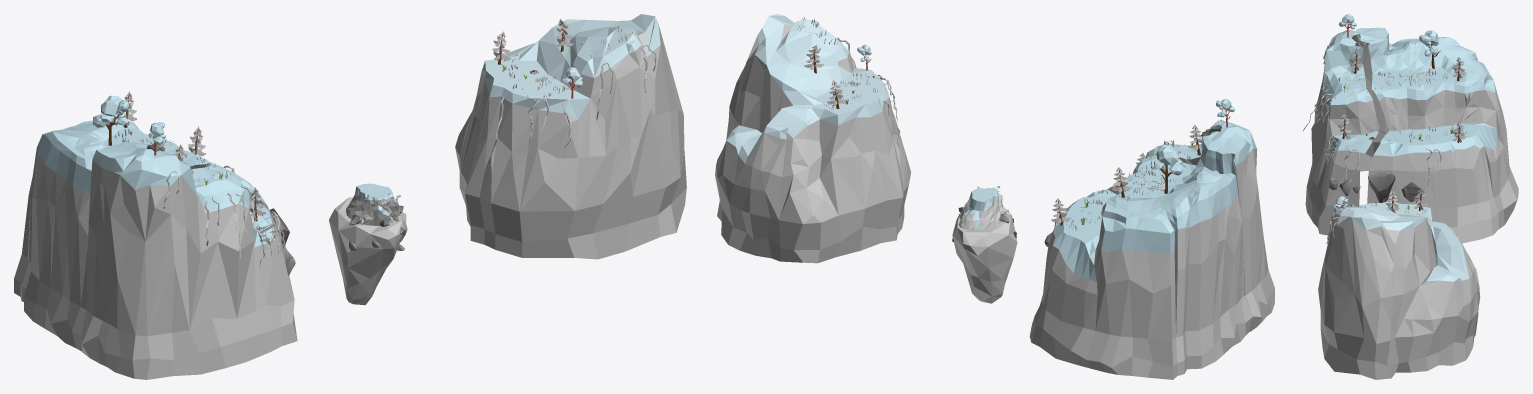
File: rocks.fbx
3 renders of one model, left to right at view 1: azimuth 30°, elevation 25°; view 2: azimuth 150°, elevation 25°; view 3: azimuth 270°, elevation 25°, orthographic. The views are drawn at different scales.
Parts seen in each view (by area): view 1: Campfire.001, Campfire.002, 528-_PP_Ramp_Moss_Gro.002; view 2: Campfire.001, Campfire.002, 528-_PP_Ramp_Moss_Gro.002; view 3: Campfire.001, Campfire.002.
Part boxes in pixels (x1,y1,x2,y2): Campfire.001: (14, 91, 297, 379); Campfire.002: (455, 14, 686, 259); 528-_PP_Ramp_Moss_Gro.002: (329, 183, 407, 305); Campfire.001: (1029, 99, 1274, 379); Campfire.002: (715, 14, 911, 263); 528-_PP_Ramp_Moss_Gro.002: (952, 186, 1017, 303); Campfire.001: (1303, 14, 1518, 243); Campfire.002: (1318, 188, 1480, 379).
Size of the model in its own units: 5772 by 2398 by 2377.
